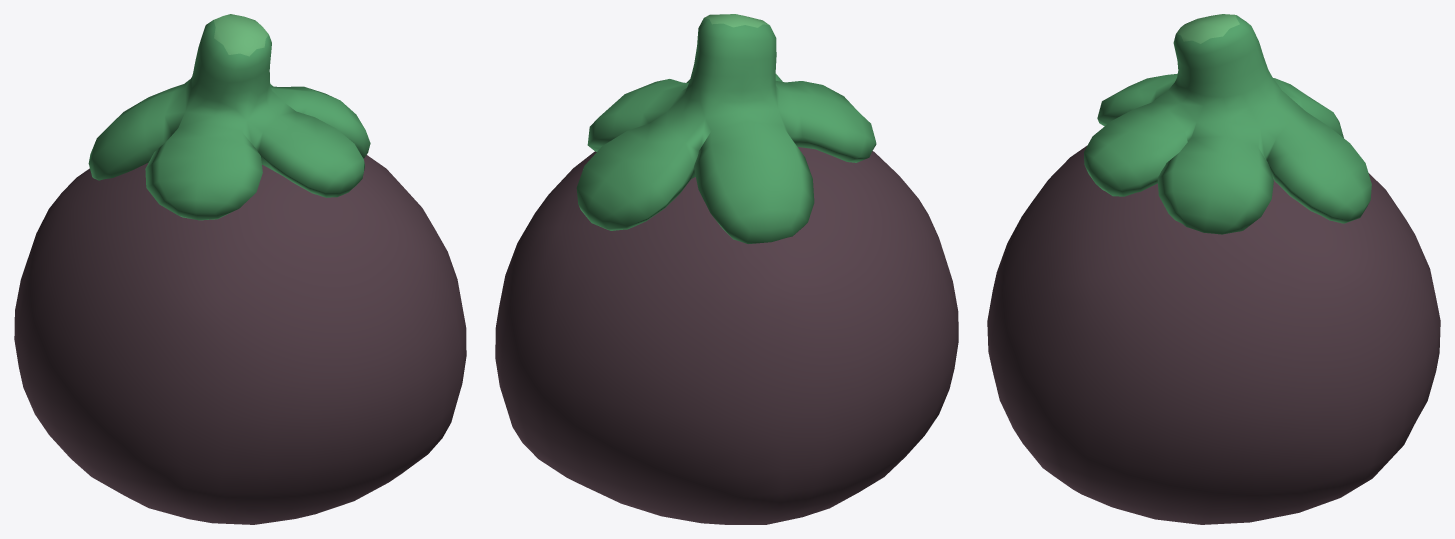
File: Mangosteen_01.dae
3 views of the same model, side by side, from view 1: azimuth 30°, elevation 25°; view 2: azimuth 150°, elevation 25°; view 3: azimuth 270°, elevation 25° (orthographic). The views are drawn at different scales.
Parts seen in each view (by area): view 1: Mangosteen_01_LOD0; view 2: Mangosteen_01_LOD0; view 3: Mangosteen_01_LOD0.
Boxes of the visible parts, x1=… form: Mangosteen_01_LOD0: x1=14, y1=14, x2=466, y2=524; Mangosteen_01_LOD0: x1=495, y1=14, x2=958, y2=524; Mangosteen_01_LOD0: x1=987, y1=14, x2=1440, y2=524.
Size of what is drawn, in the model's own units: 4.08 by 4.17 by 4.86.
